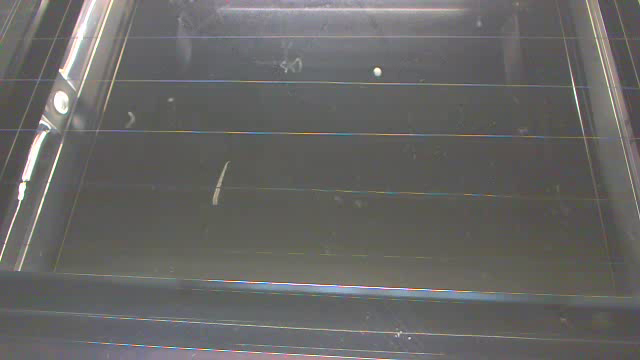alpha: (210, 155, 230, 211), (369, 61, 386, 85), (122, 106, 137, 133)
